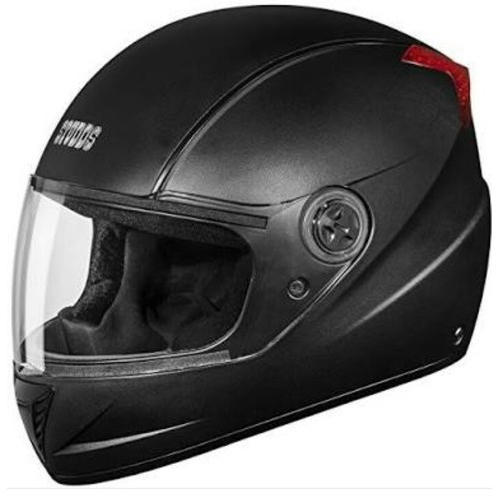helmet: (6, 7, 494, 488)
